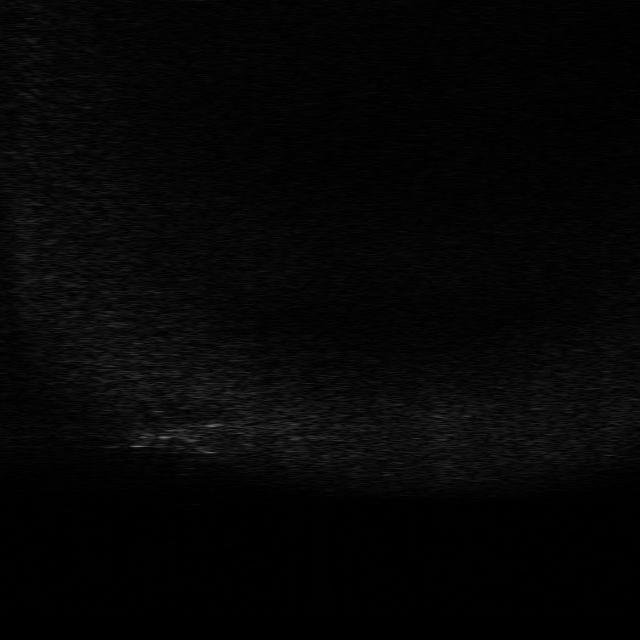plane: (124, 406, 226, 456)
